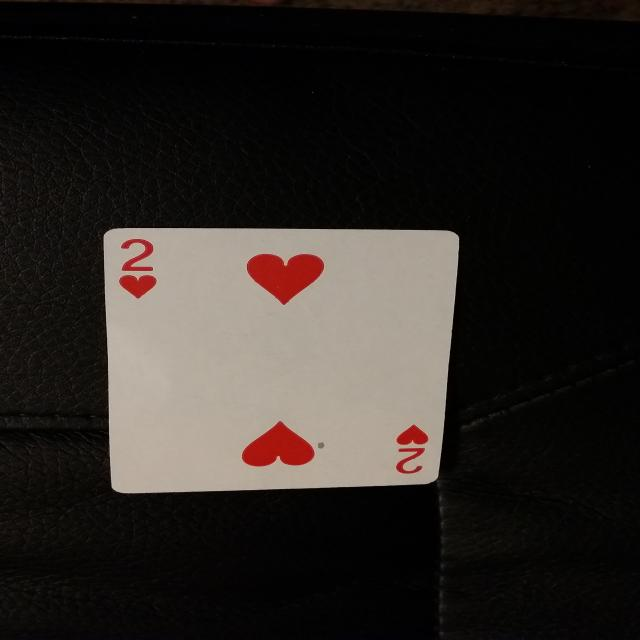2h: (108, 234, 176, 309), (377, 418, 438, 482)
